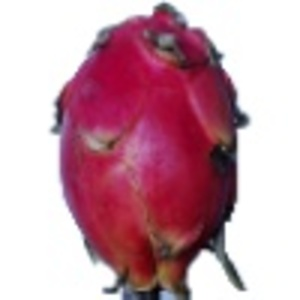pitaia: (50, 1, 253, 300)
